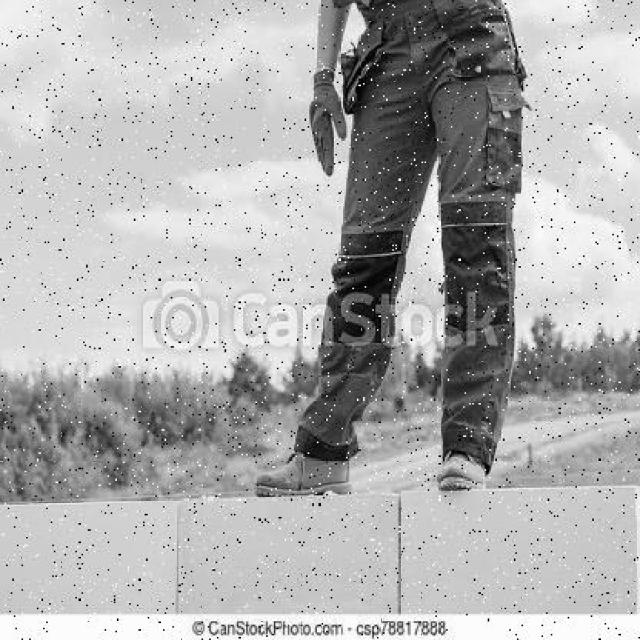shoes: (253, 446, 358, 508), (438, 452, 488, 497)
